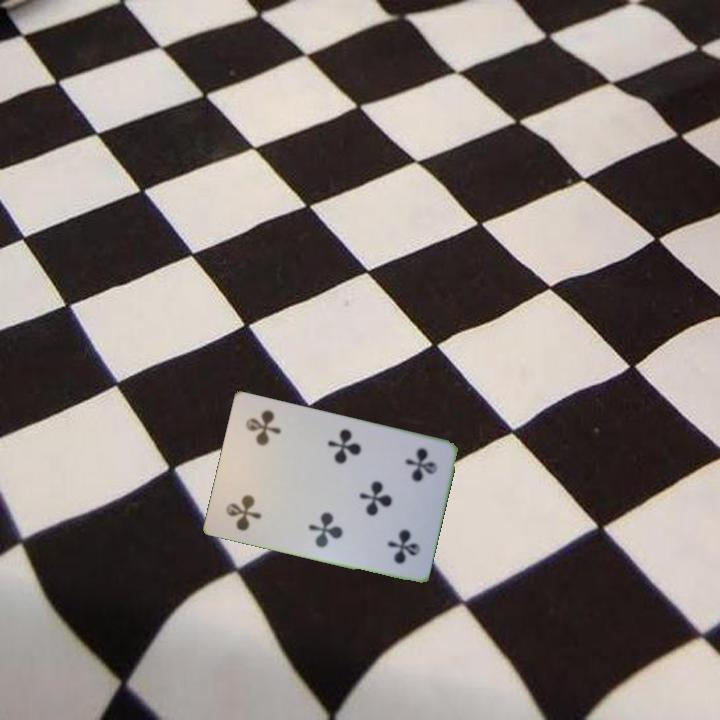c_7.png: (377, 437, 448, 515), (214, 461, 285, 539)
